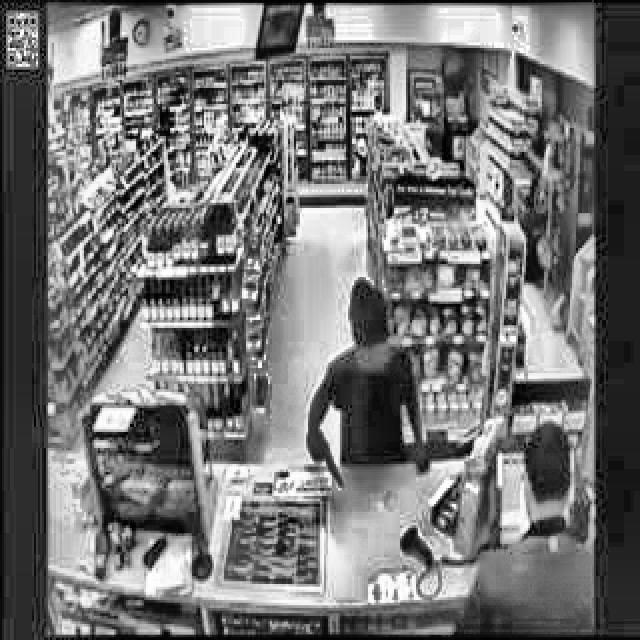robbery: (298, 278, 436, 494)
